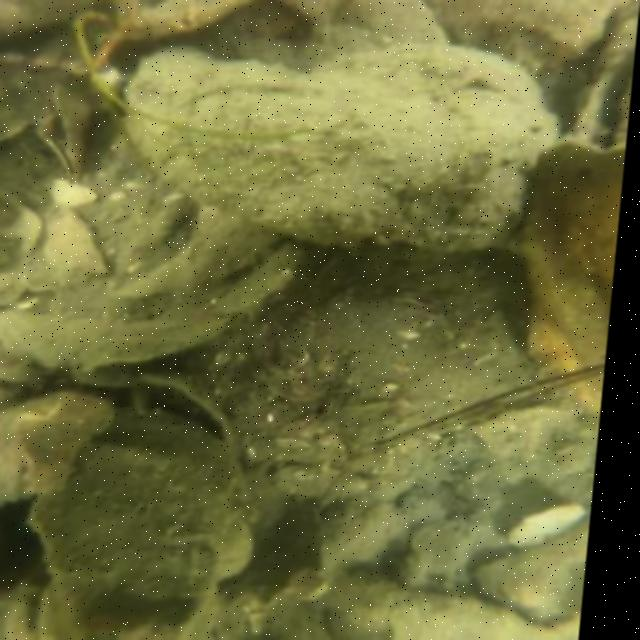Oyster-Indeterminate: (125, 36, 571, 255), (22, 441, 255, 638)
